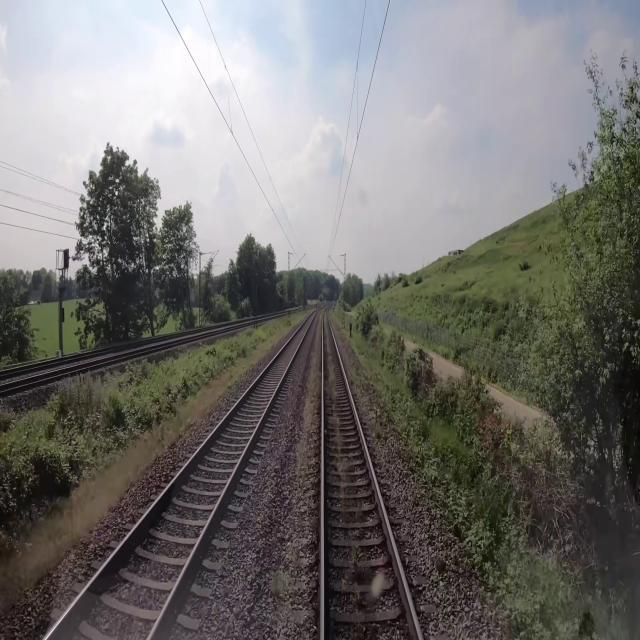Plant: (303, 317, 321, 428), (323, 309, 337, 400)
